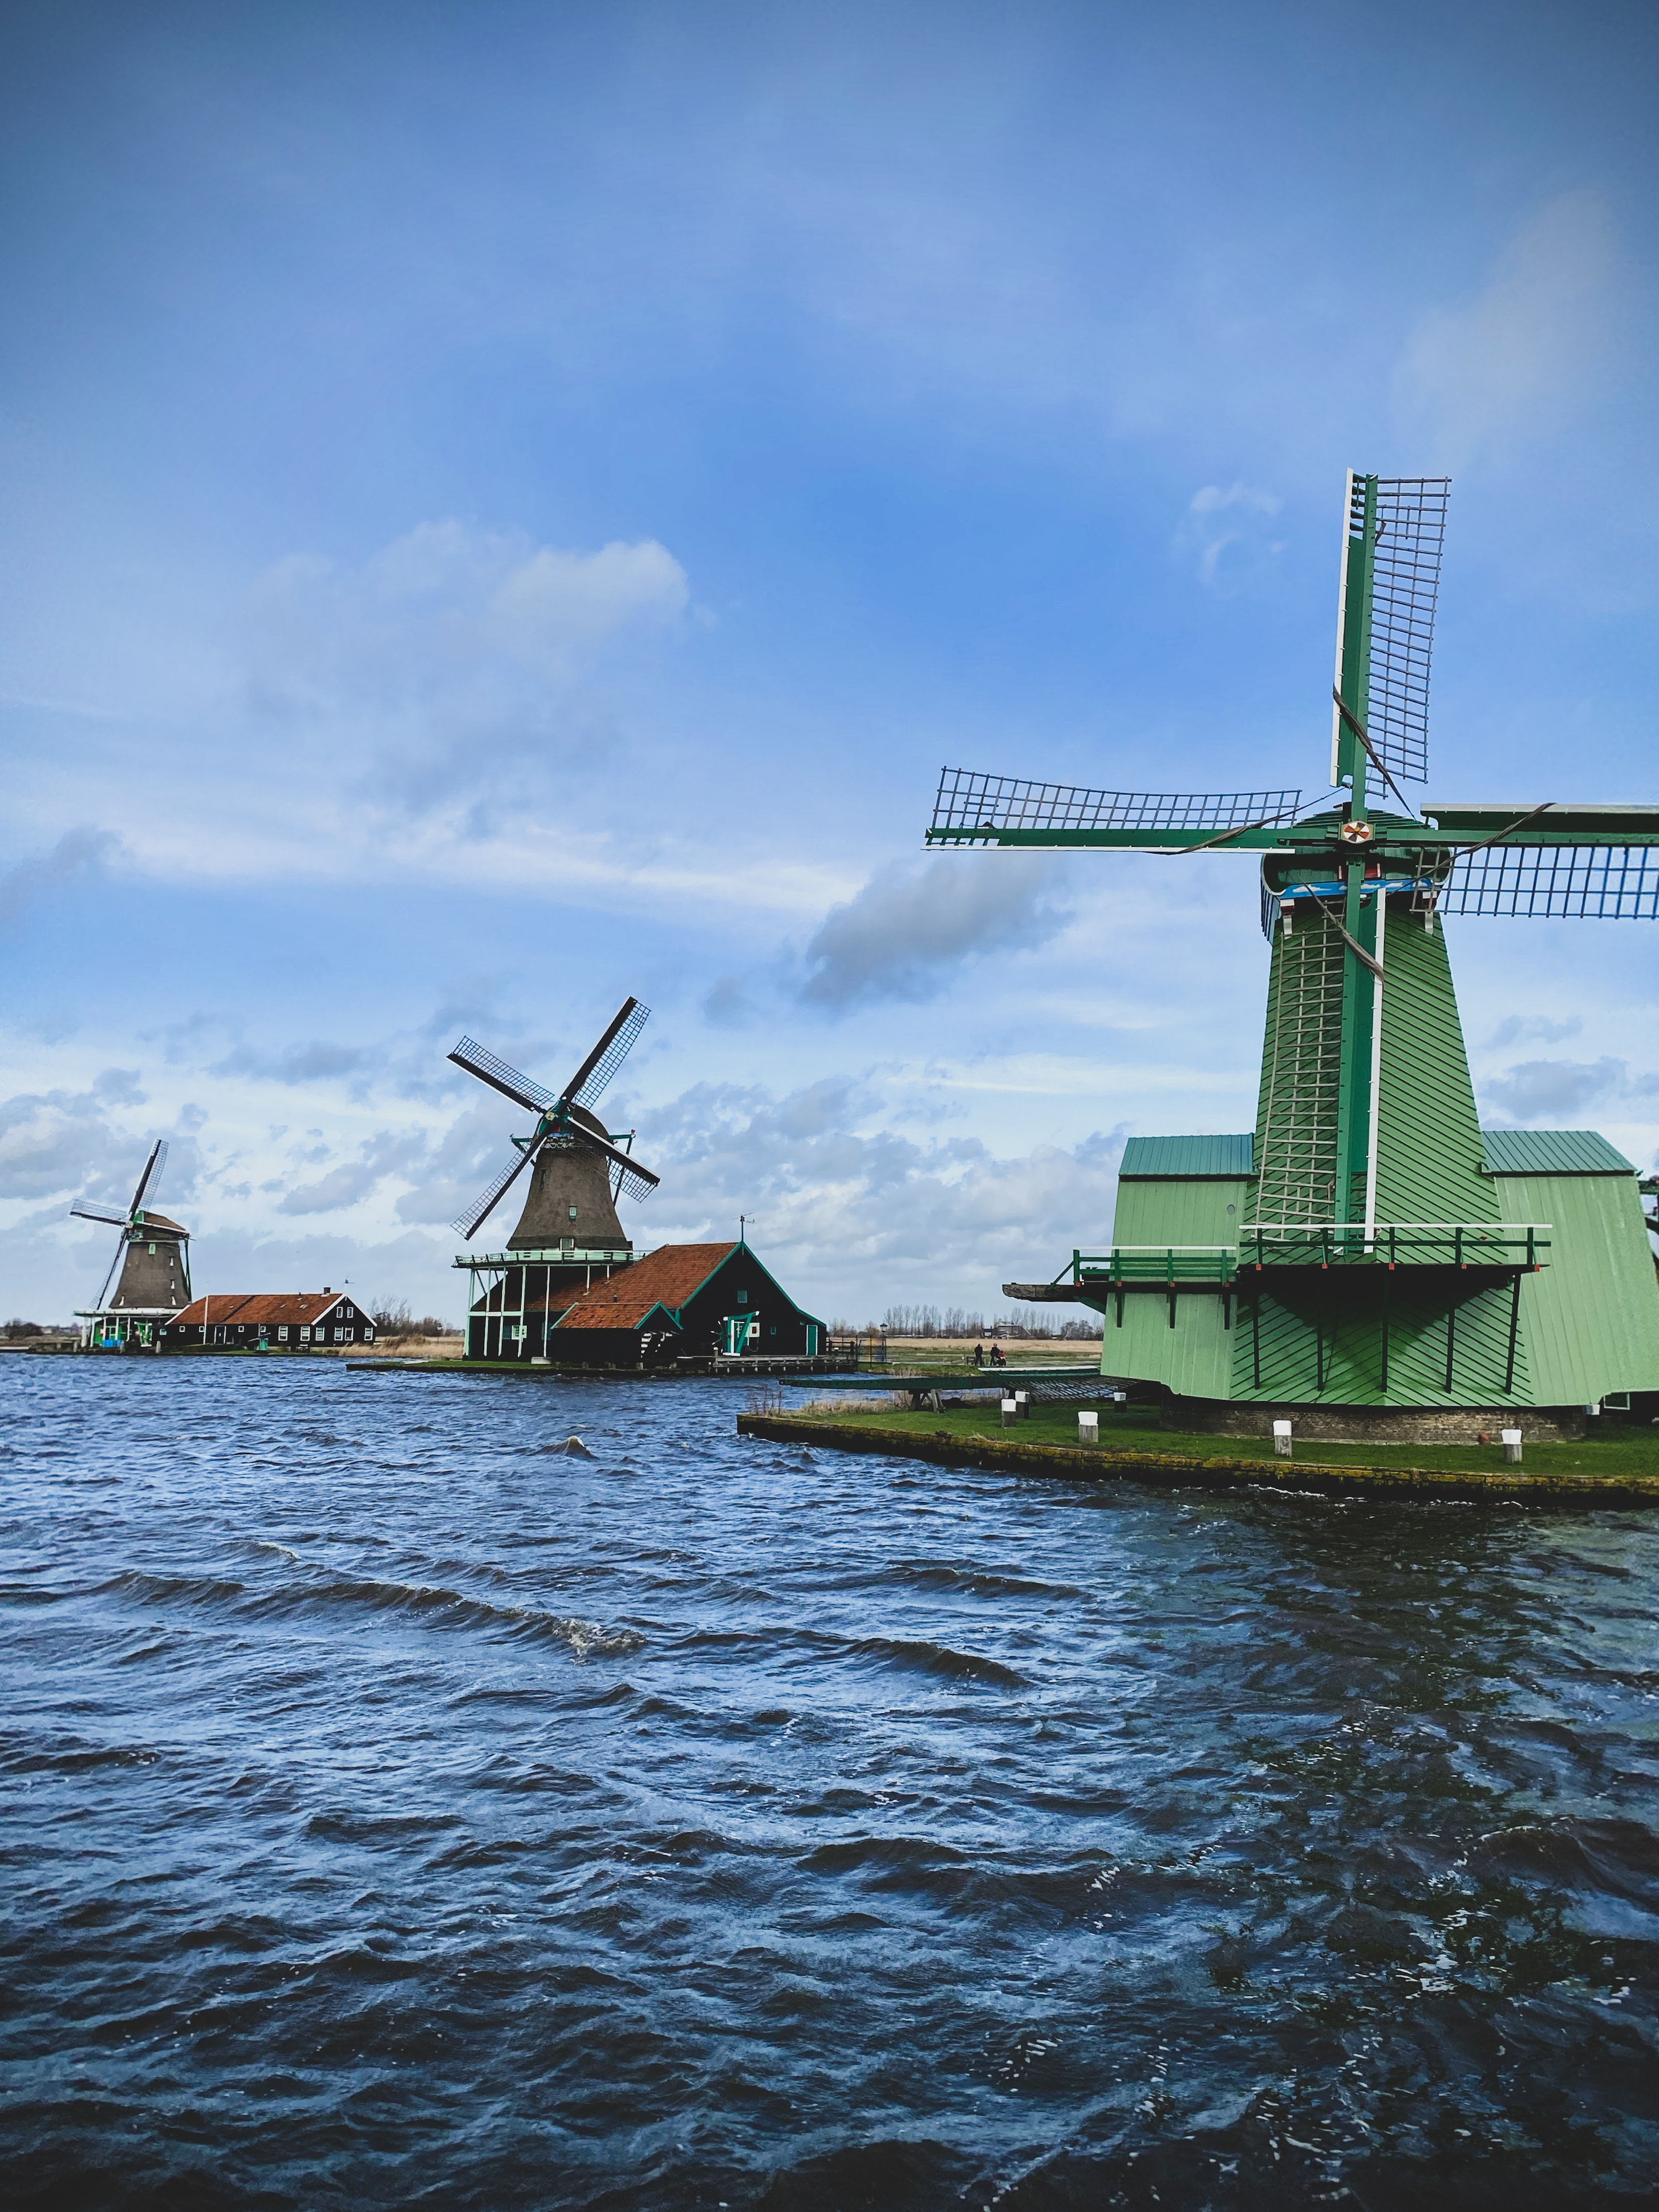working: (910, 470, 1635, 1064), (439, 1010, 692, 1195)
